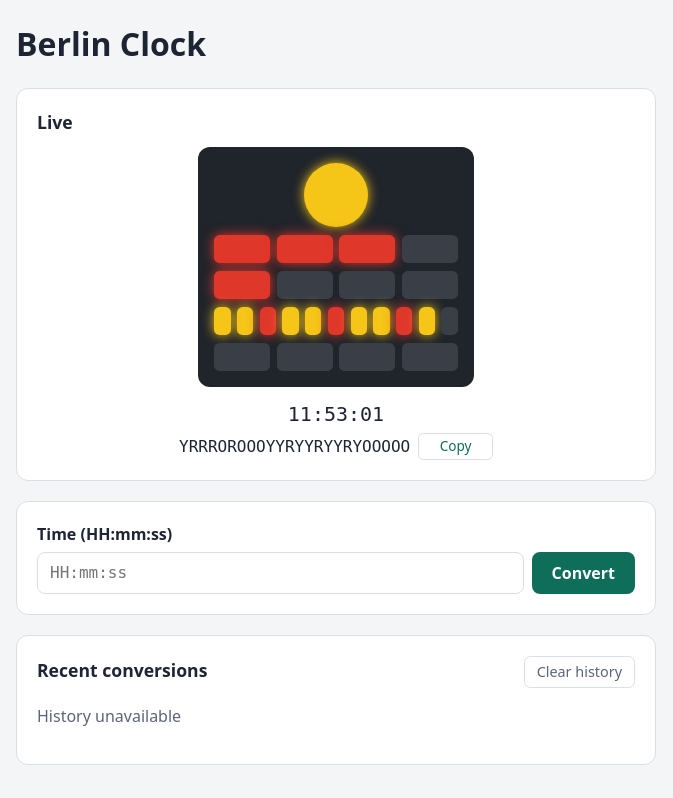
Test: When the database is down › saves conversions again once it is back, and the history returns
The width and height of the screenshot is (673, 798).
Type "12:00:00" into the field labelled "Time (HH:mm:ss)" at (280, 573), box [37, 552, 524, 594]
Then press Enter
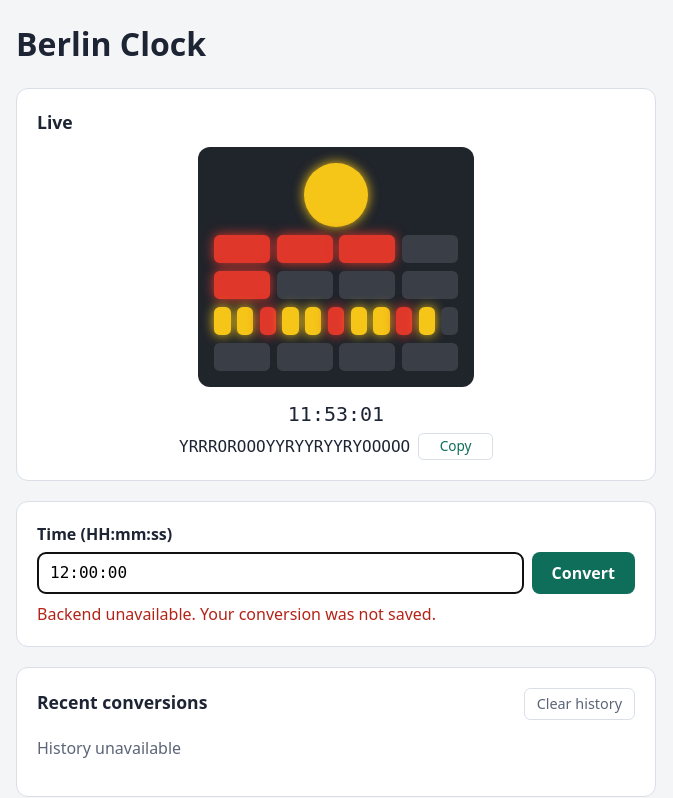
Expected: the message "Backend unavailable. Your conversion was not saved." is shown, [37, 603, 436, 625]
Click the button "Convert" at (583, 573), box [532, 552, 635, 594]
(page scrolled)
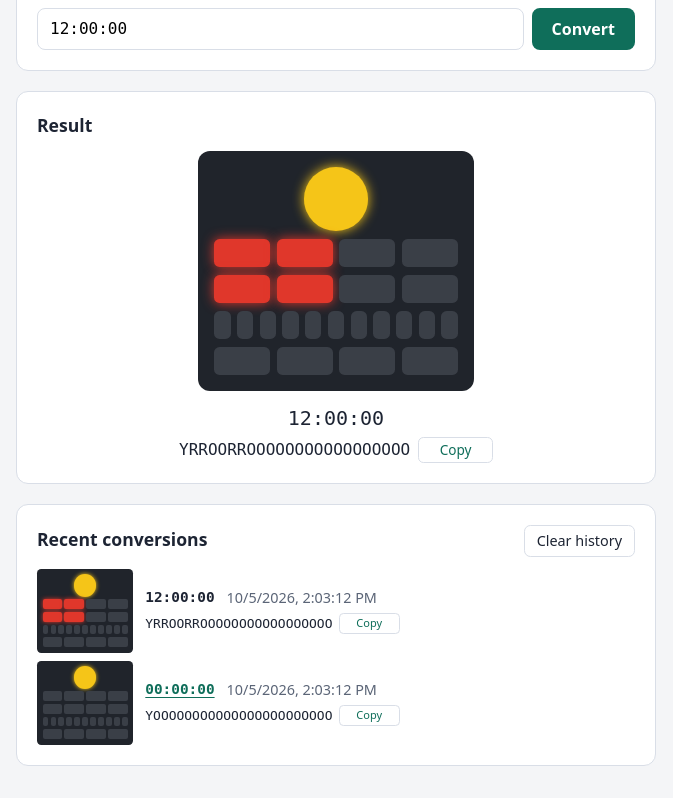
Expected: the element "Result" is shown, [16, 91, 656, 484]
Expected: the message "Backend unavailable. Your conversion was not saved." is gone
Expected: the link "12:00:00" is shown, [145, 587, 215, 609]
